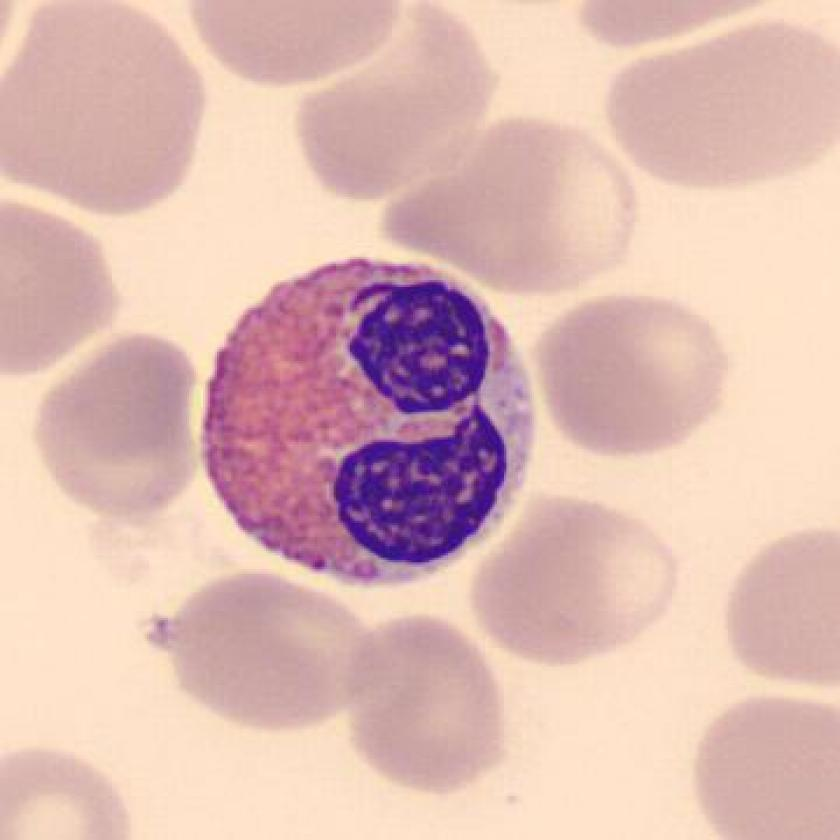eosinophil: (188, 246, 556, 603)
